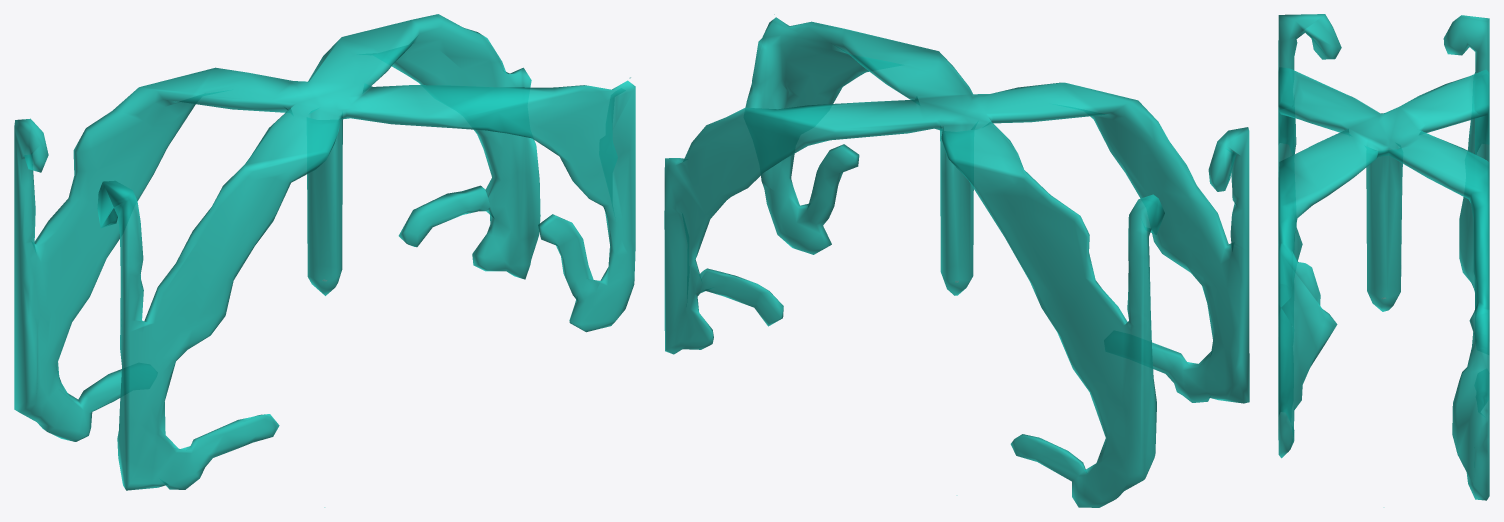
The picture shows the model from 3 angles, left to right: view 1: azimuth 30°, elevation 25°; view 2: azimuth 150°, elevation 25°; view 3: azimuth 270°, elevation 25°; orthographic projection. The views are drawn at different scales.
Visible parts, largest first — view 1: Liquid_Domain; view 2: Liquid_Domain; view 3: Liquid_Domain.
Boxes of the visible parts, x1,y1,x2,y2 form: Liquid_Domain: (14,14,635,490); Liquid_Domain: (664,14,1249,507); Liquid_Domain: (1278,14,1489,500).
Bounding box in the file's own units: 884 × 683 × 344.
